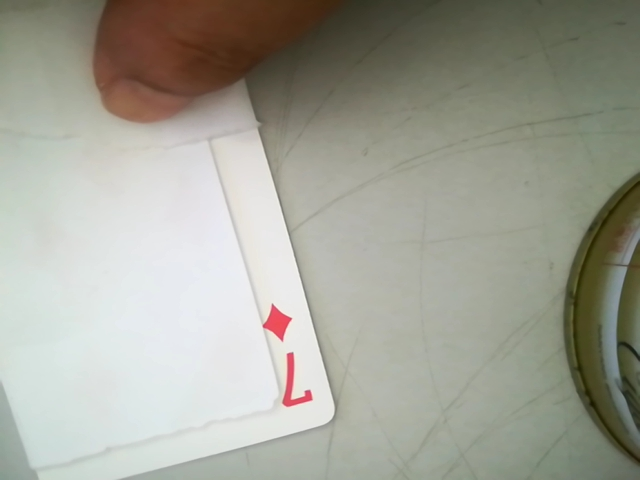fk 7: (252, 285, 317, 420)
